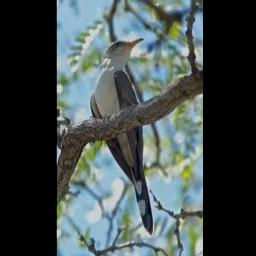Cuckoo: (90, 38, 154, 235)
